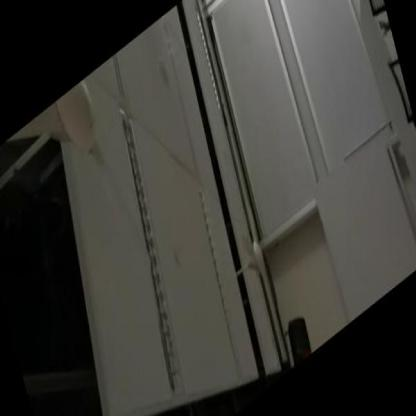light_off: (95, 83, 200, 406), (185, 177, 248, 375)
